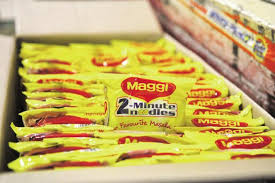maggi: (116, 71, 187, 124)
